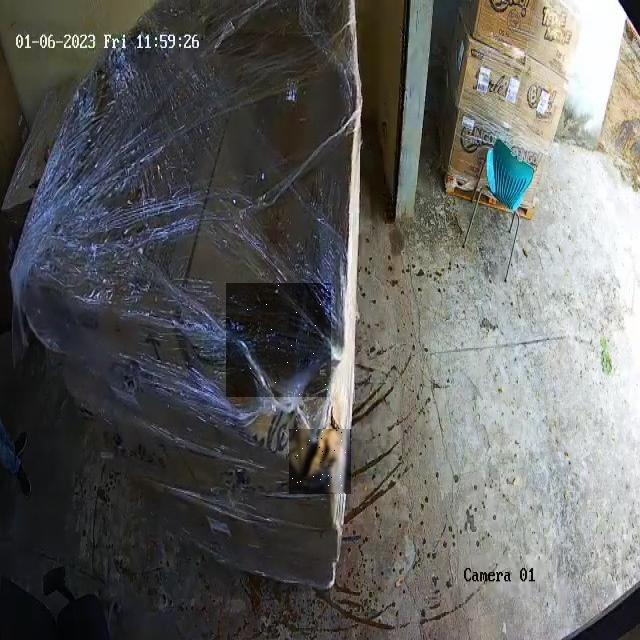leakage: (290, 429, 349, 492)
squeeze: (226, 284, 331, 395)
